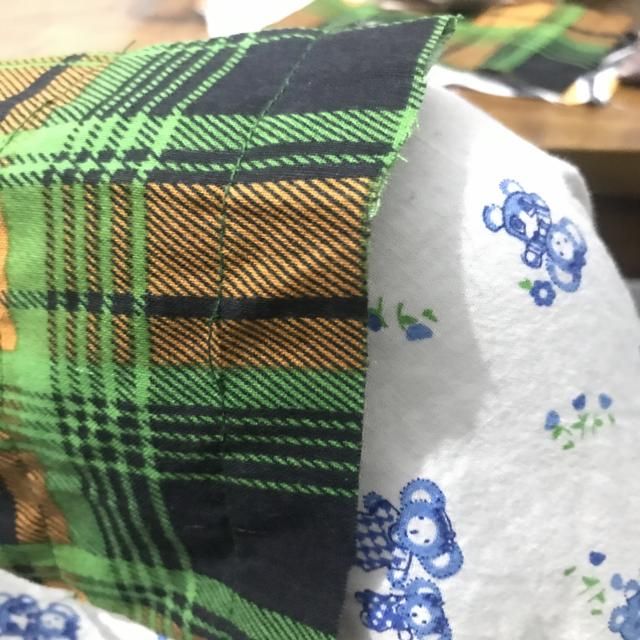skip: (195, 276, 229, 389)
